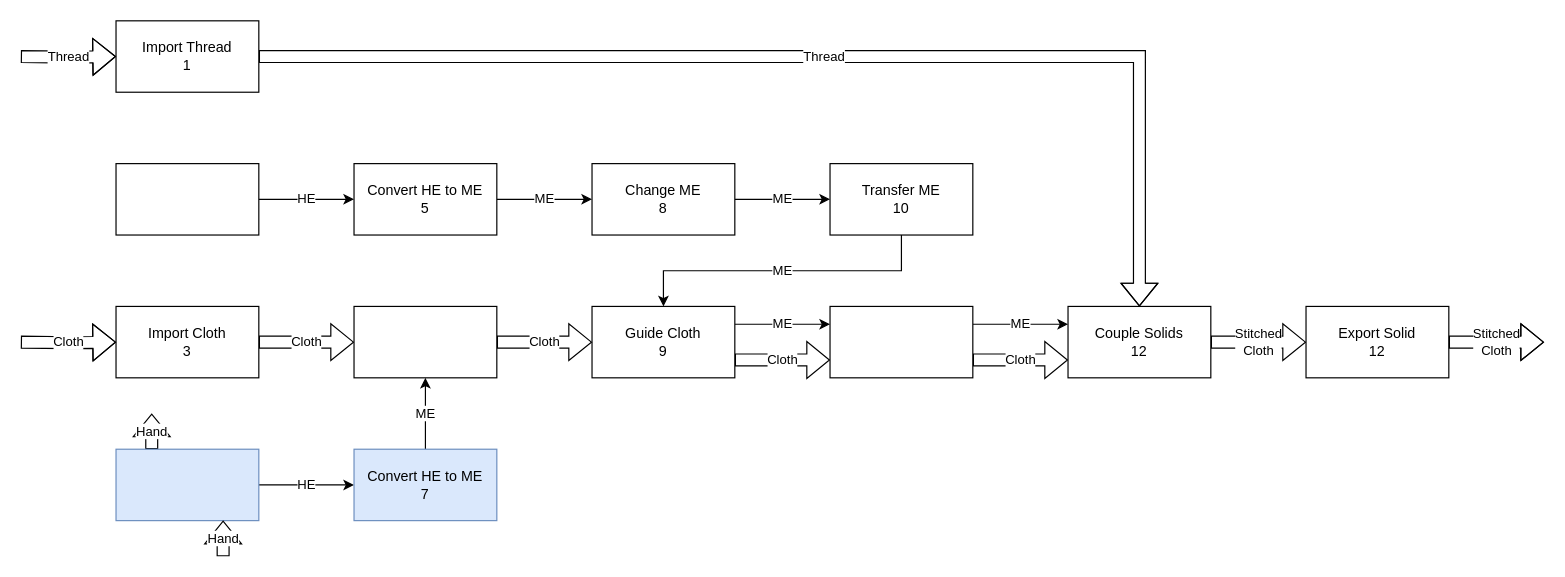
Some shapes in this 1565 by 577 pixel diagram are drawn without their labels. The shapes that lost their labels are listed below. From the top down, each one's centre as x and y in pixels, then its label:
the point at 187,198: Import HE 2
the point at 425,341: Secure Cloth (cloth going through teeth) 6
the point at 901,341: Change Cloth 11
the point at 187,484: Import HE 4
